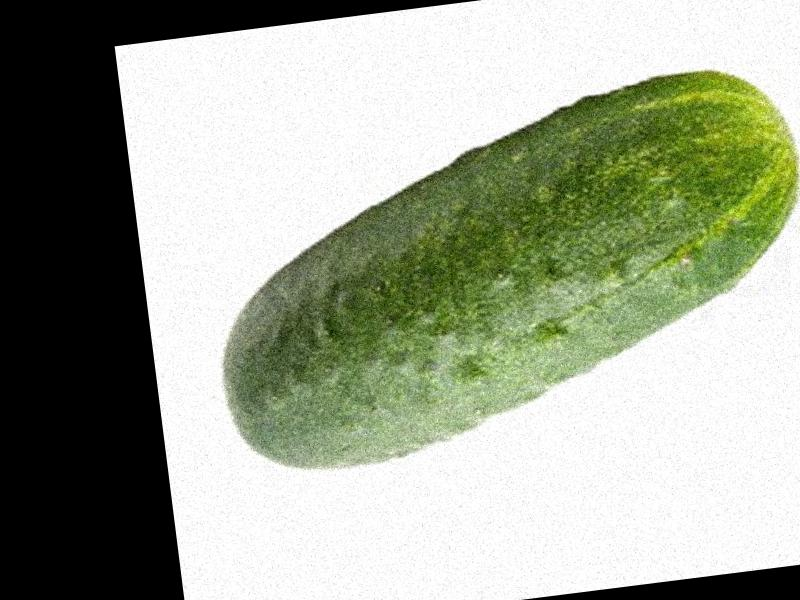Cucumber: (193, 64, 800, 483)
